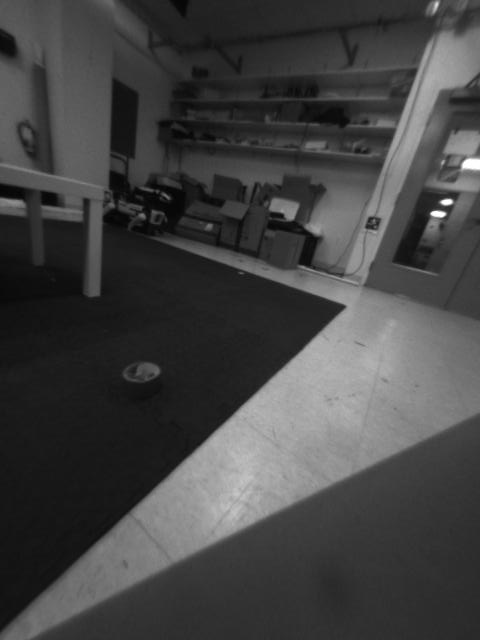dogtoy: (109, 347, 172, 405)
